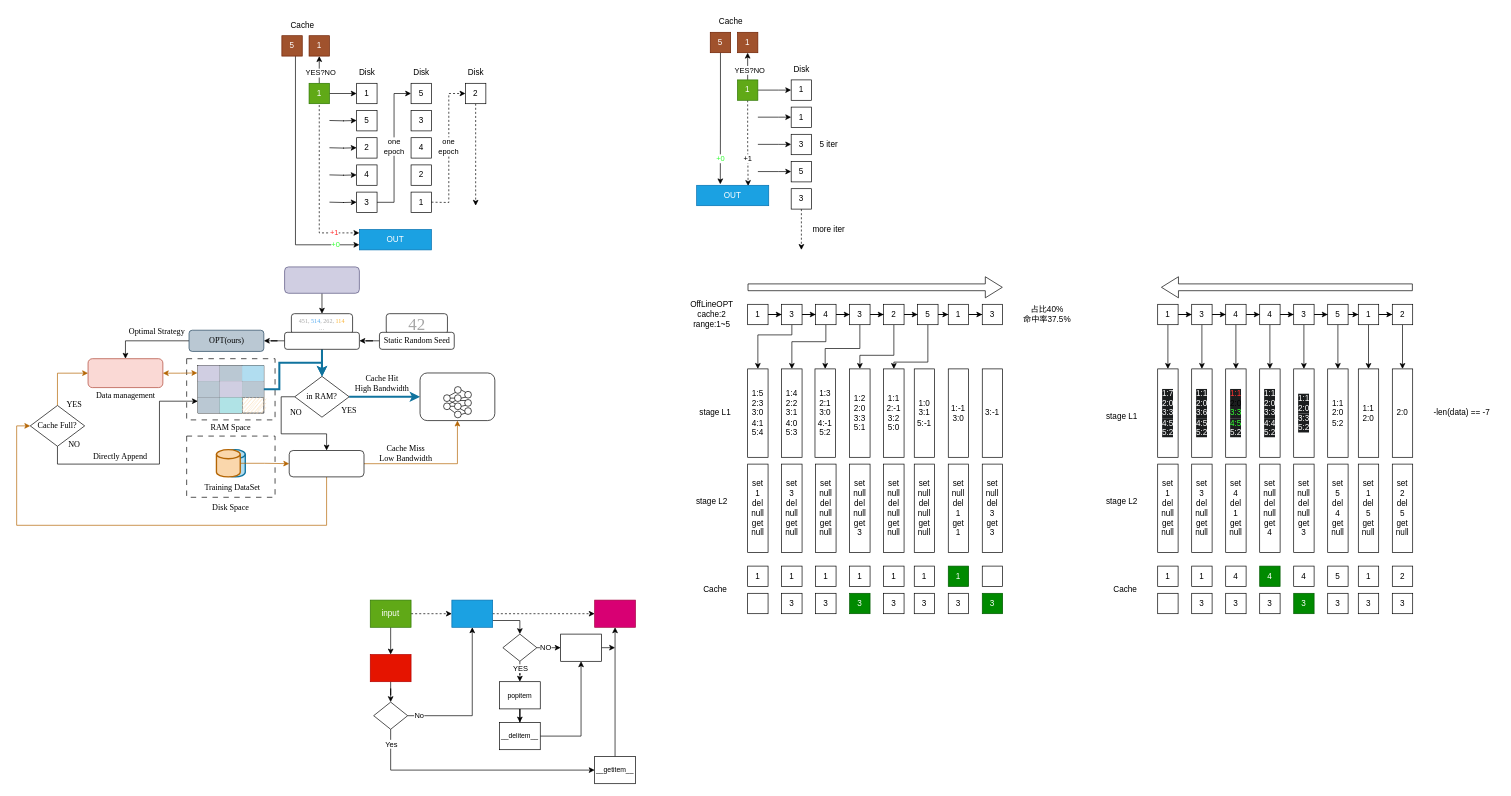
Image size: 1511x796. Some labels were removed from this diagram. Each missing label, with the centre of its shape:
"@Cache" belongs at [390,668].
"__setitem__" belongs at [580,647].
"Caching Algorithm" belongs at [125,373].
"Data Loader" belongs at [321,279].
"Data Processor" belongs at [326,463].
"full?" belongs at [519,647].
"func" belongs at [472,613].
"hit?" belongs at [390,715].
"Model Trainning" belongs at [457,396].
"Next Item Generator" belongs at [321,340].
"output" belongs at [614,613].
"Processed Data" belongs at [230,389].
